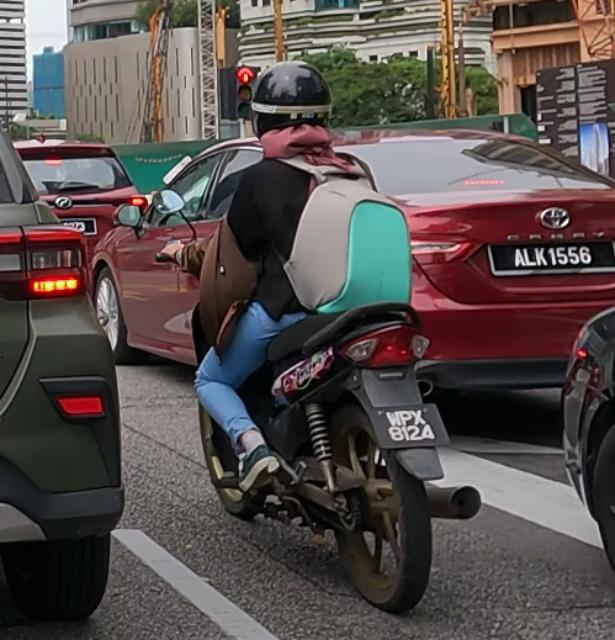License_Plate: (378, 404, 442, 448)
motorcycle: (152, 156, 483, 615)
